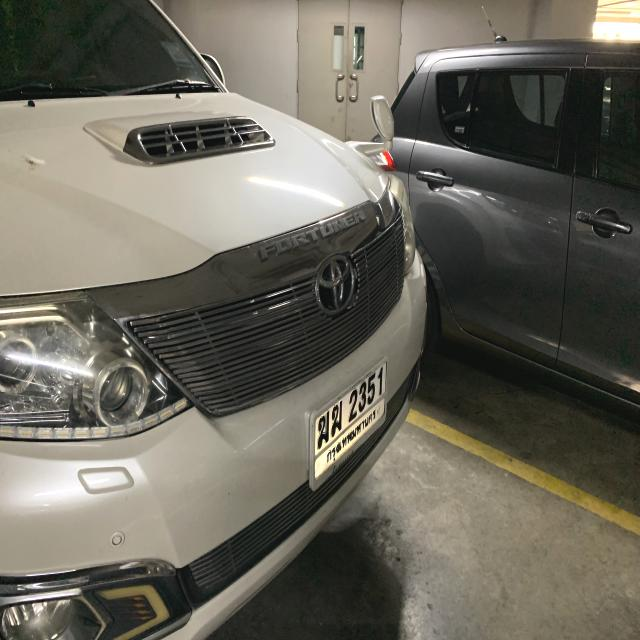license_plate: (307, 354, 390, 496)
